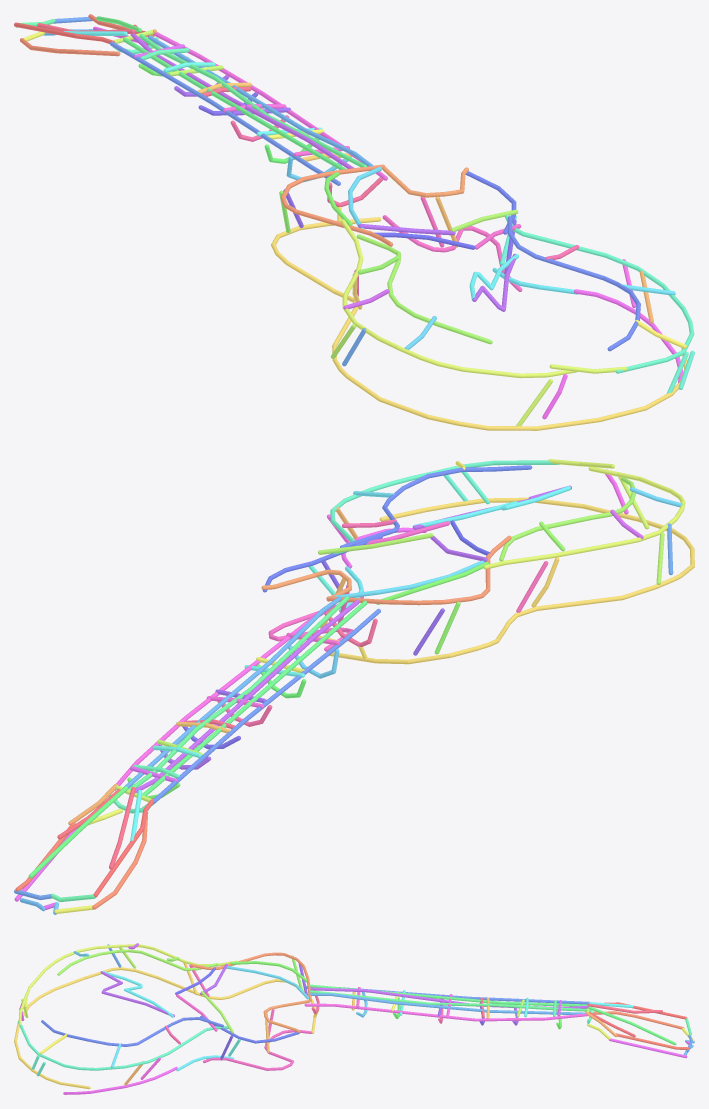
File: author2_guitar.gltf
3 views of the same model, one above another, from view 1: azimuth 30°, elevation 25°; view 2: azimuth 150°, elevation 25°; view 3: azimuth 270°, elevation 25° (orthographic). The views are drawn at different scales.
Bounding box in the file's own units: 0.3301 × 0.1154 × 0.9426.
